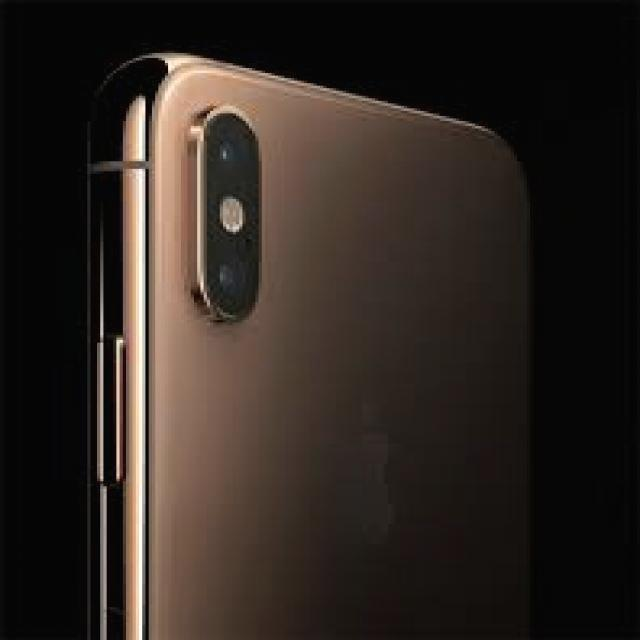lens: (193, 104, 265, 322)
phone: (81, 40, 575, 640)
